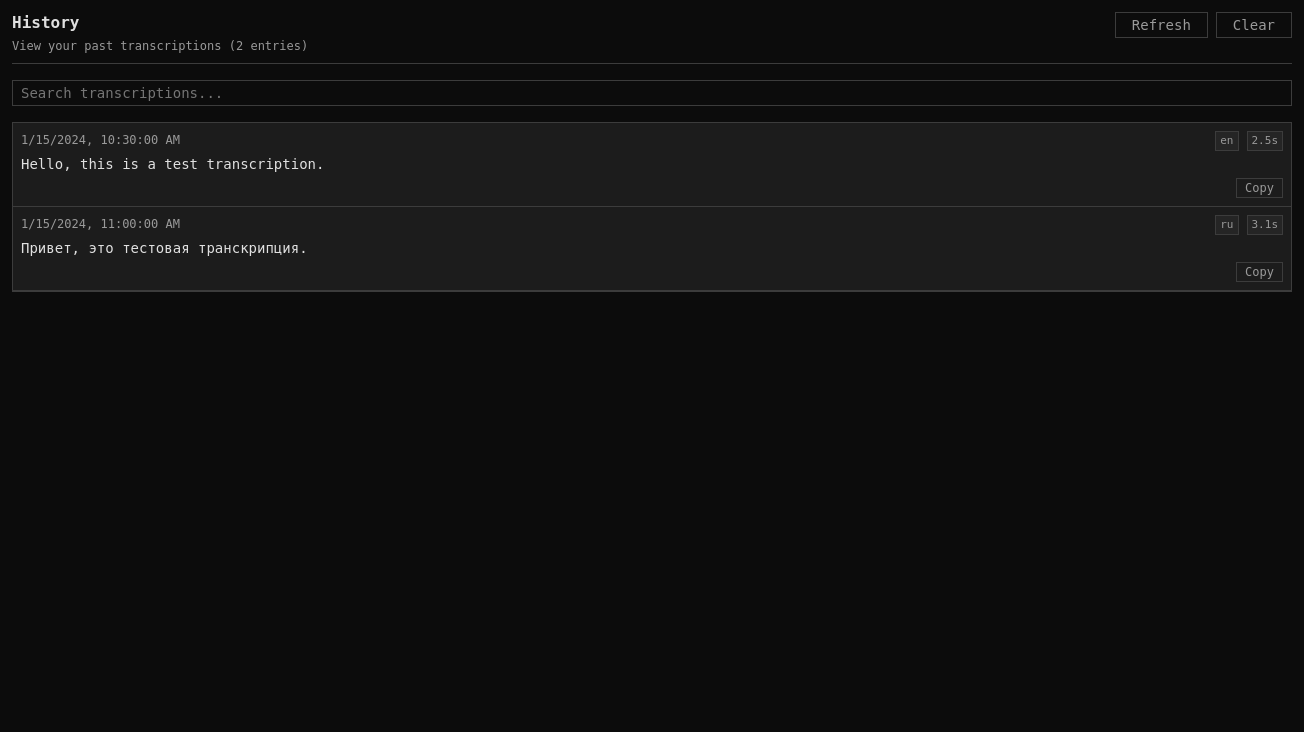
Test: HistoryPage › shows copied toast after copying
Click the button "Copy" below "2.5" at (1260, 188), box [1236,178,1283,198]
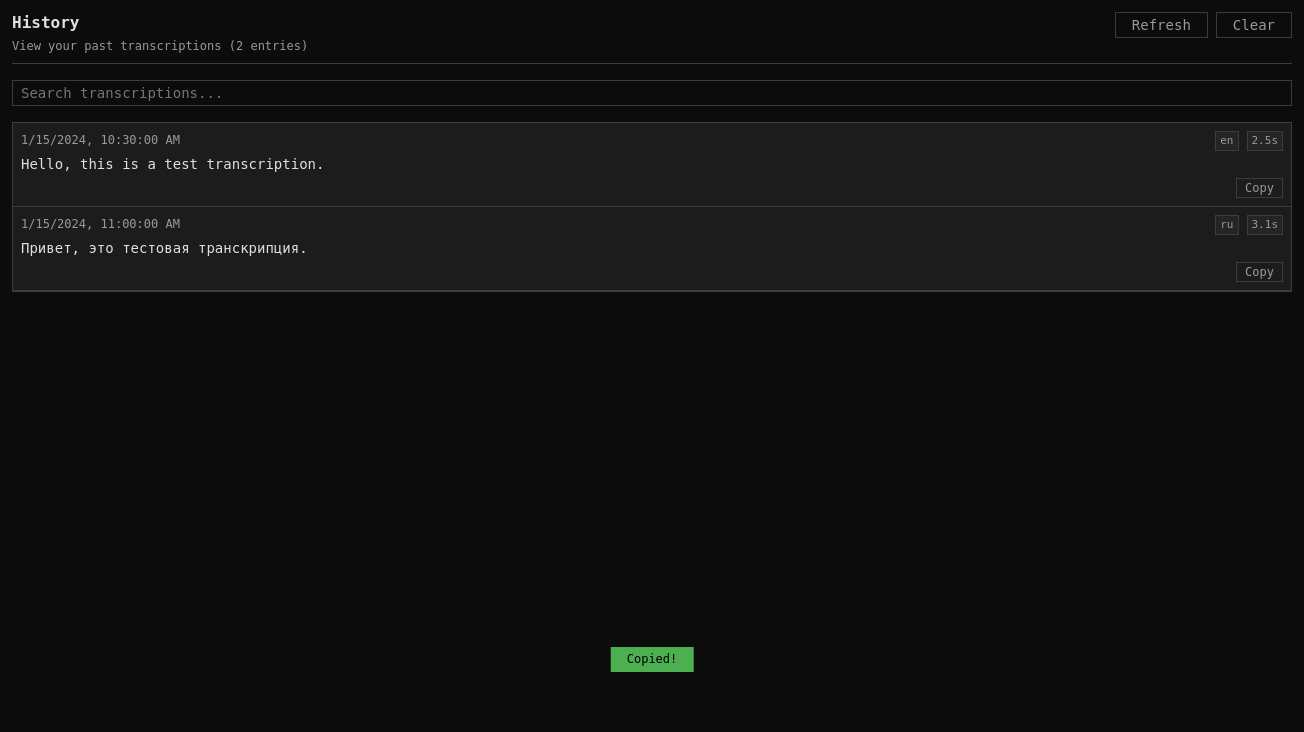
Check: the text "Copied!" is shown, box [611,647,693,672]
